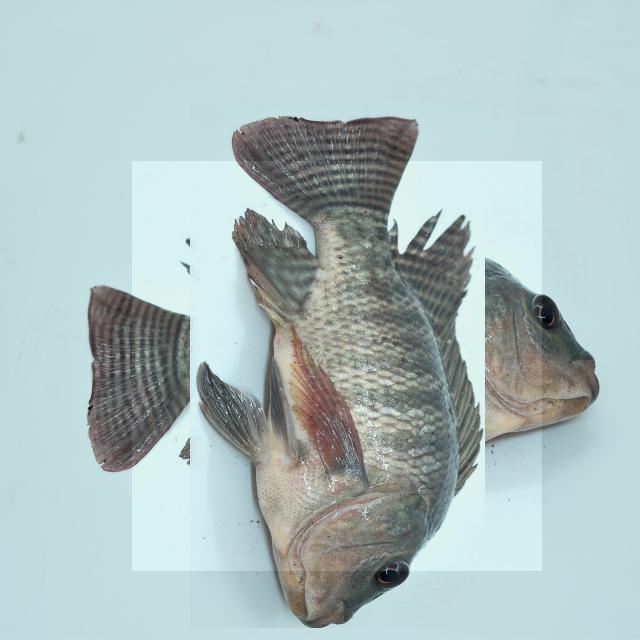Healthy Fish: (132, 161, 542, 571)
